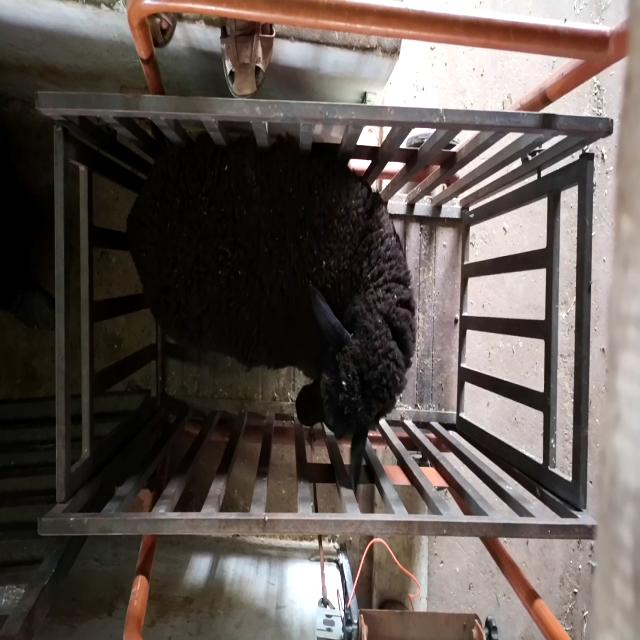sheep: (126, 133, 416, 494)
